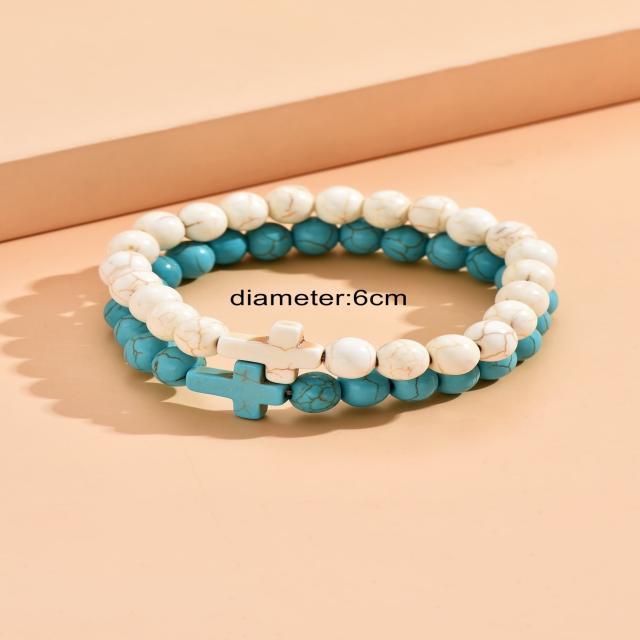bracelet: (41, 153, 640, 504)
